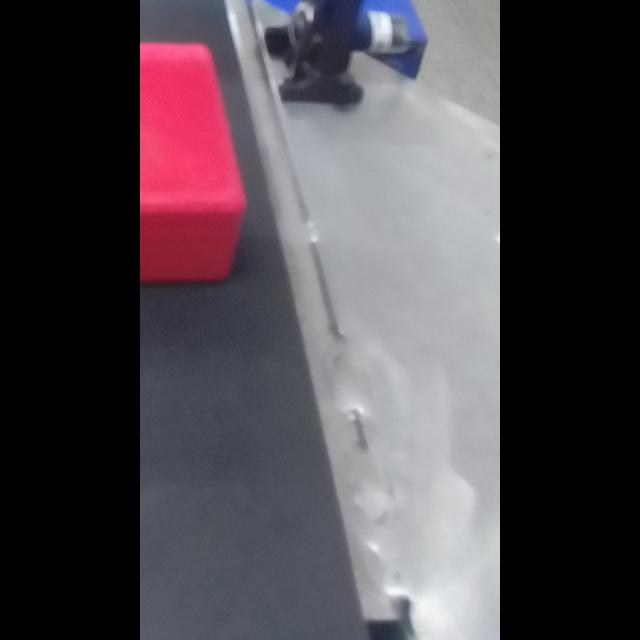redBox: (140, 31, 256, 297)
